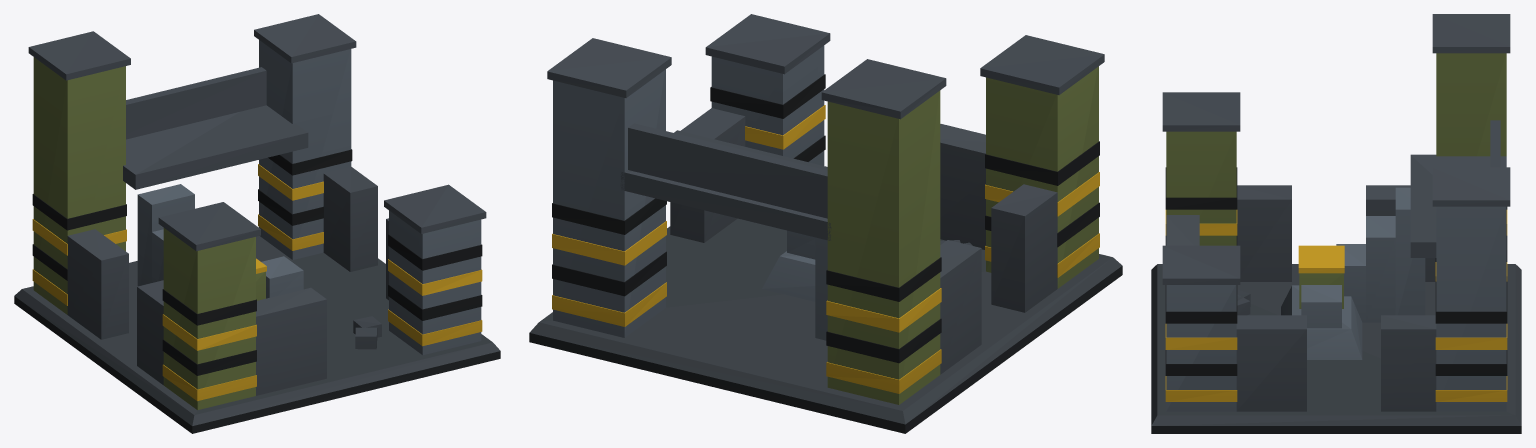
Rendered from outpost-generator.glb.
The picture shows the model from 3 angles, left to right: view 1: azimuth 30°, elevation 25°; view 2: azimuth 150°, elevation 25°; view 3: azimuth 270°, elevation 25°; orthographic projection. The views are drawn at different scales.
Size of the model in its own units: 5 by 4 by 5.
